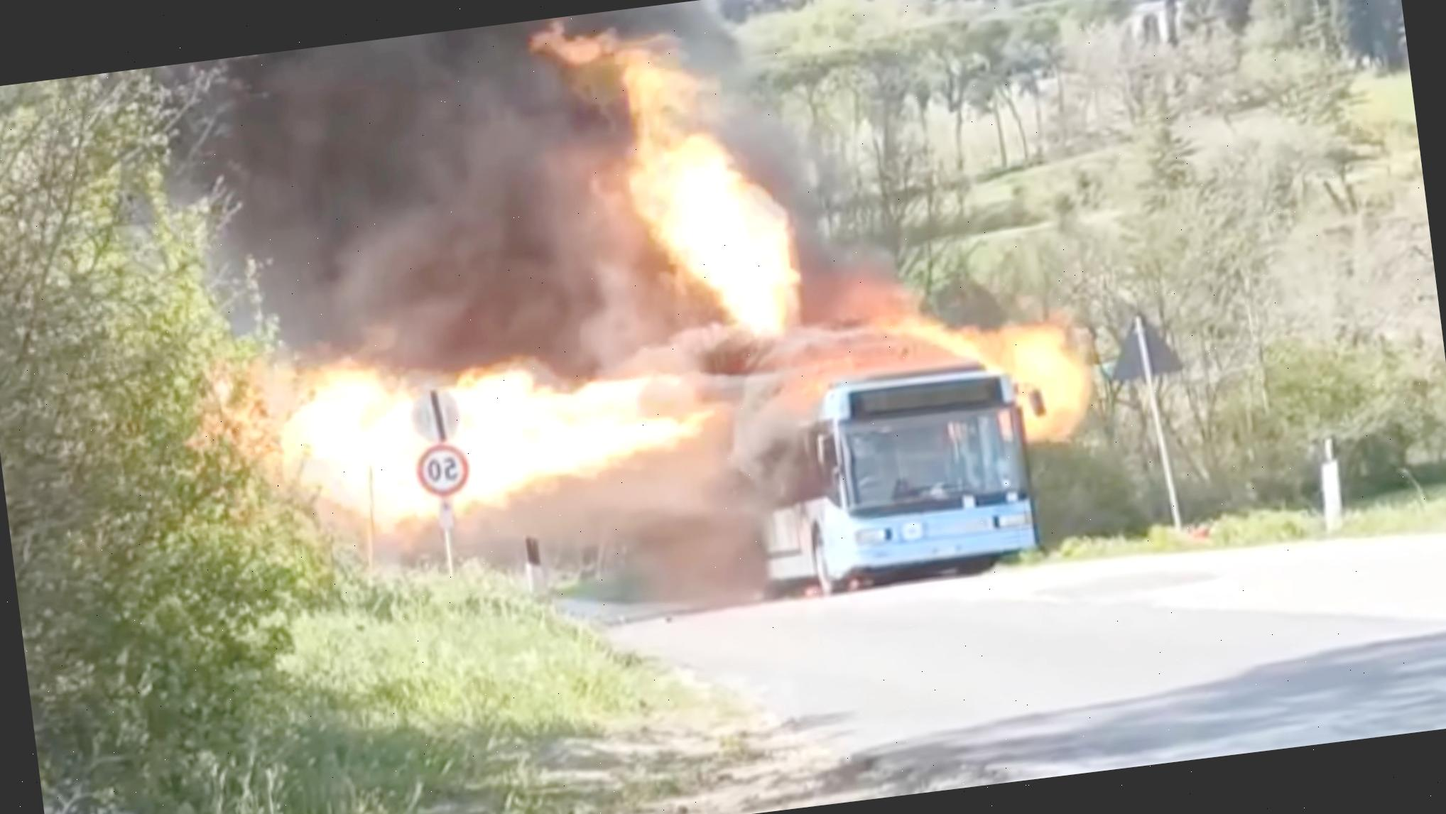fire: (201, 338, 735, 554), (849, 290, 1143, 447), (592, 71, 737, 323)
smoke: (116, 51, 559, 365), (492, 438, 799, 616), (690, 8, 805, 159)
